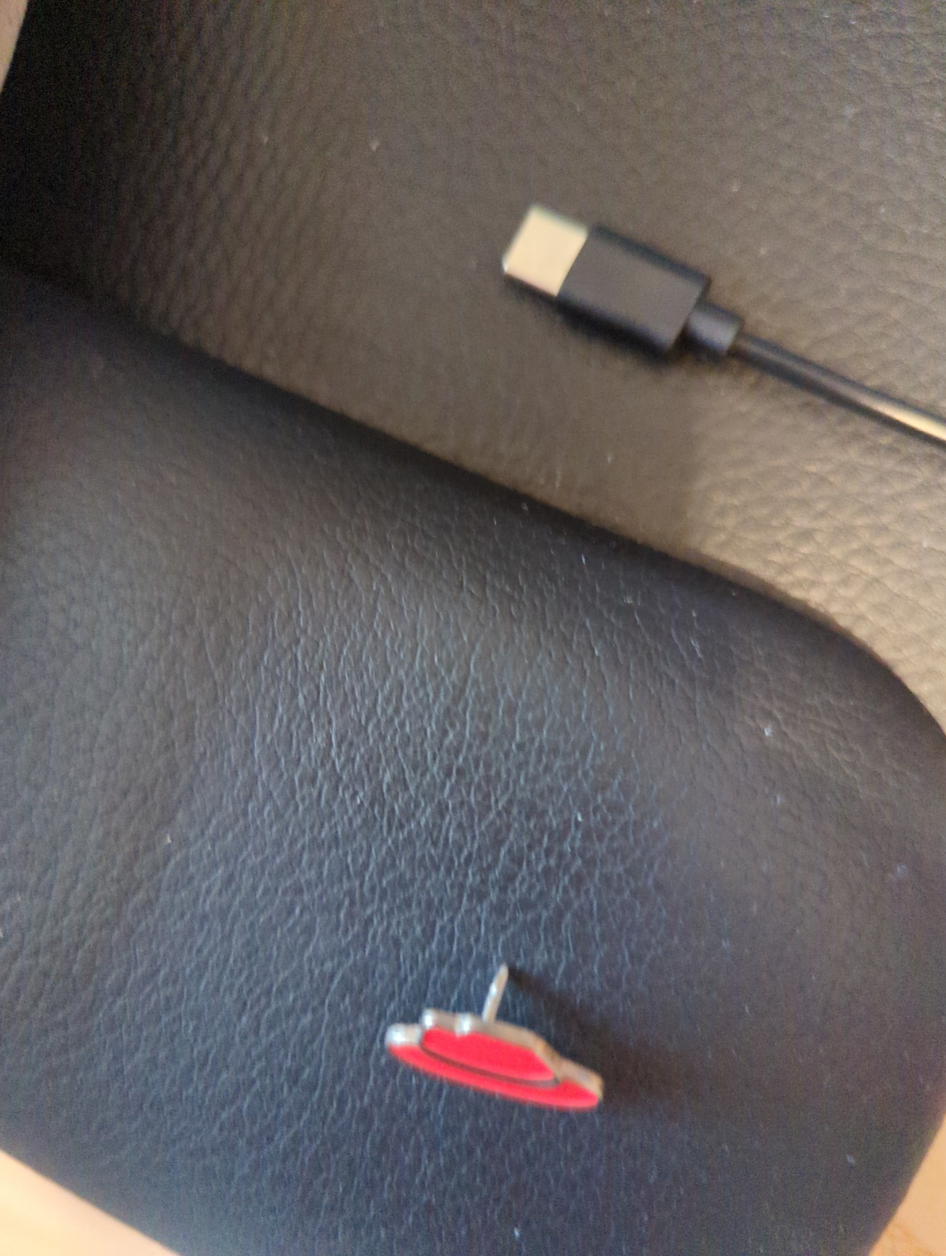Red-Hat: (293, 914, 676, 1174)
